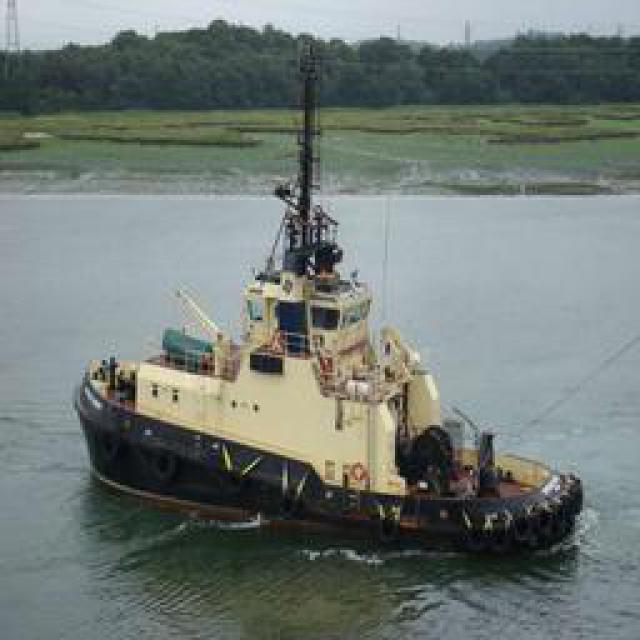Ship: (75, 156, 575, 539)
